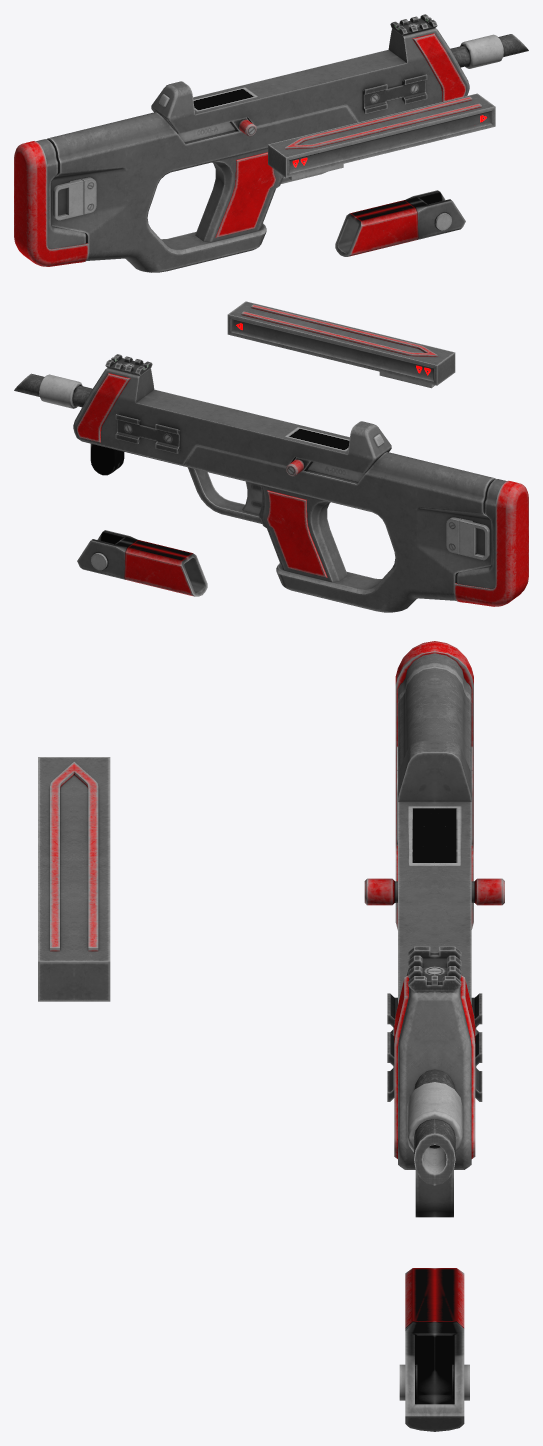
Rendered from SMG_Exploded.fbx.
3 renders of one model, top to bottom at view 1: azimuth 30°, elevation 25°; view 2: azimuth 150°, elevation 25°; view 3: azimuth 270°, elevation 25°, orthographic. The views are drawn at different scales.
Parts seen in each view (by area): view 1: BaseMesh, MagMesh, PlugMesh; view 2: BaseMesh, MagMesh, PlugMesh, TriggerMesh; view 3: BaseMesh, MagMesh, PlugMesh.
Boxes of the visible parts, box(x1,y1,x2,y2) form: BaseMesh: box(14, 14, 528, 272); MagMesh: box(268, 93, 495, 180); PlugMesh: box(178, 117, 256, 142); BaseMesh: box(14, 354, 528, 612); MagMesh: box(227, 301, 455, 388); PlugMesh: box(286, 457, 364, 482); TriggerMesh: box(242, 481, 261, 514); BaseMesh: box(387, 641, 482, 1431); MagMesh: box(38, 757, 110, 1001); PlugMesh: box(364, 878, 504, 905).
Bounding box in the file's own units: 50.83 × 20.3 × 20.66.
